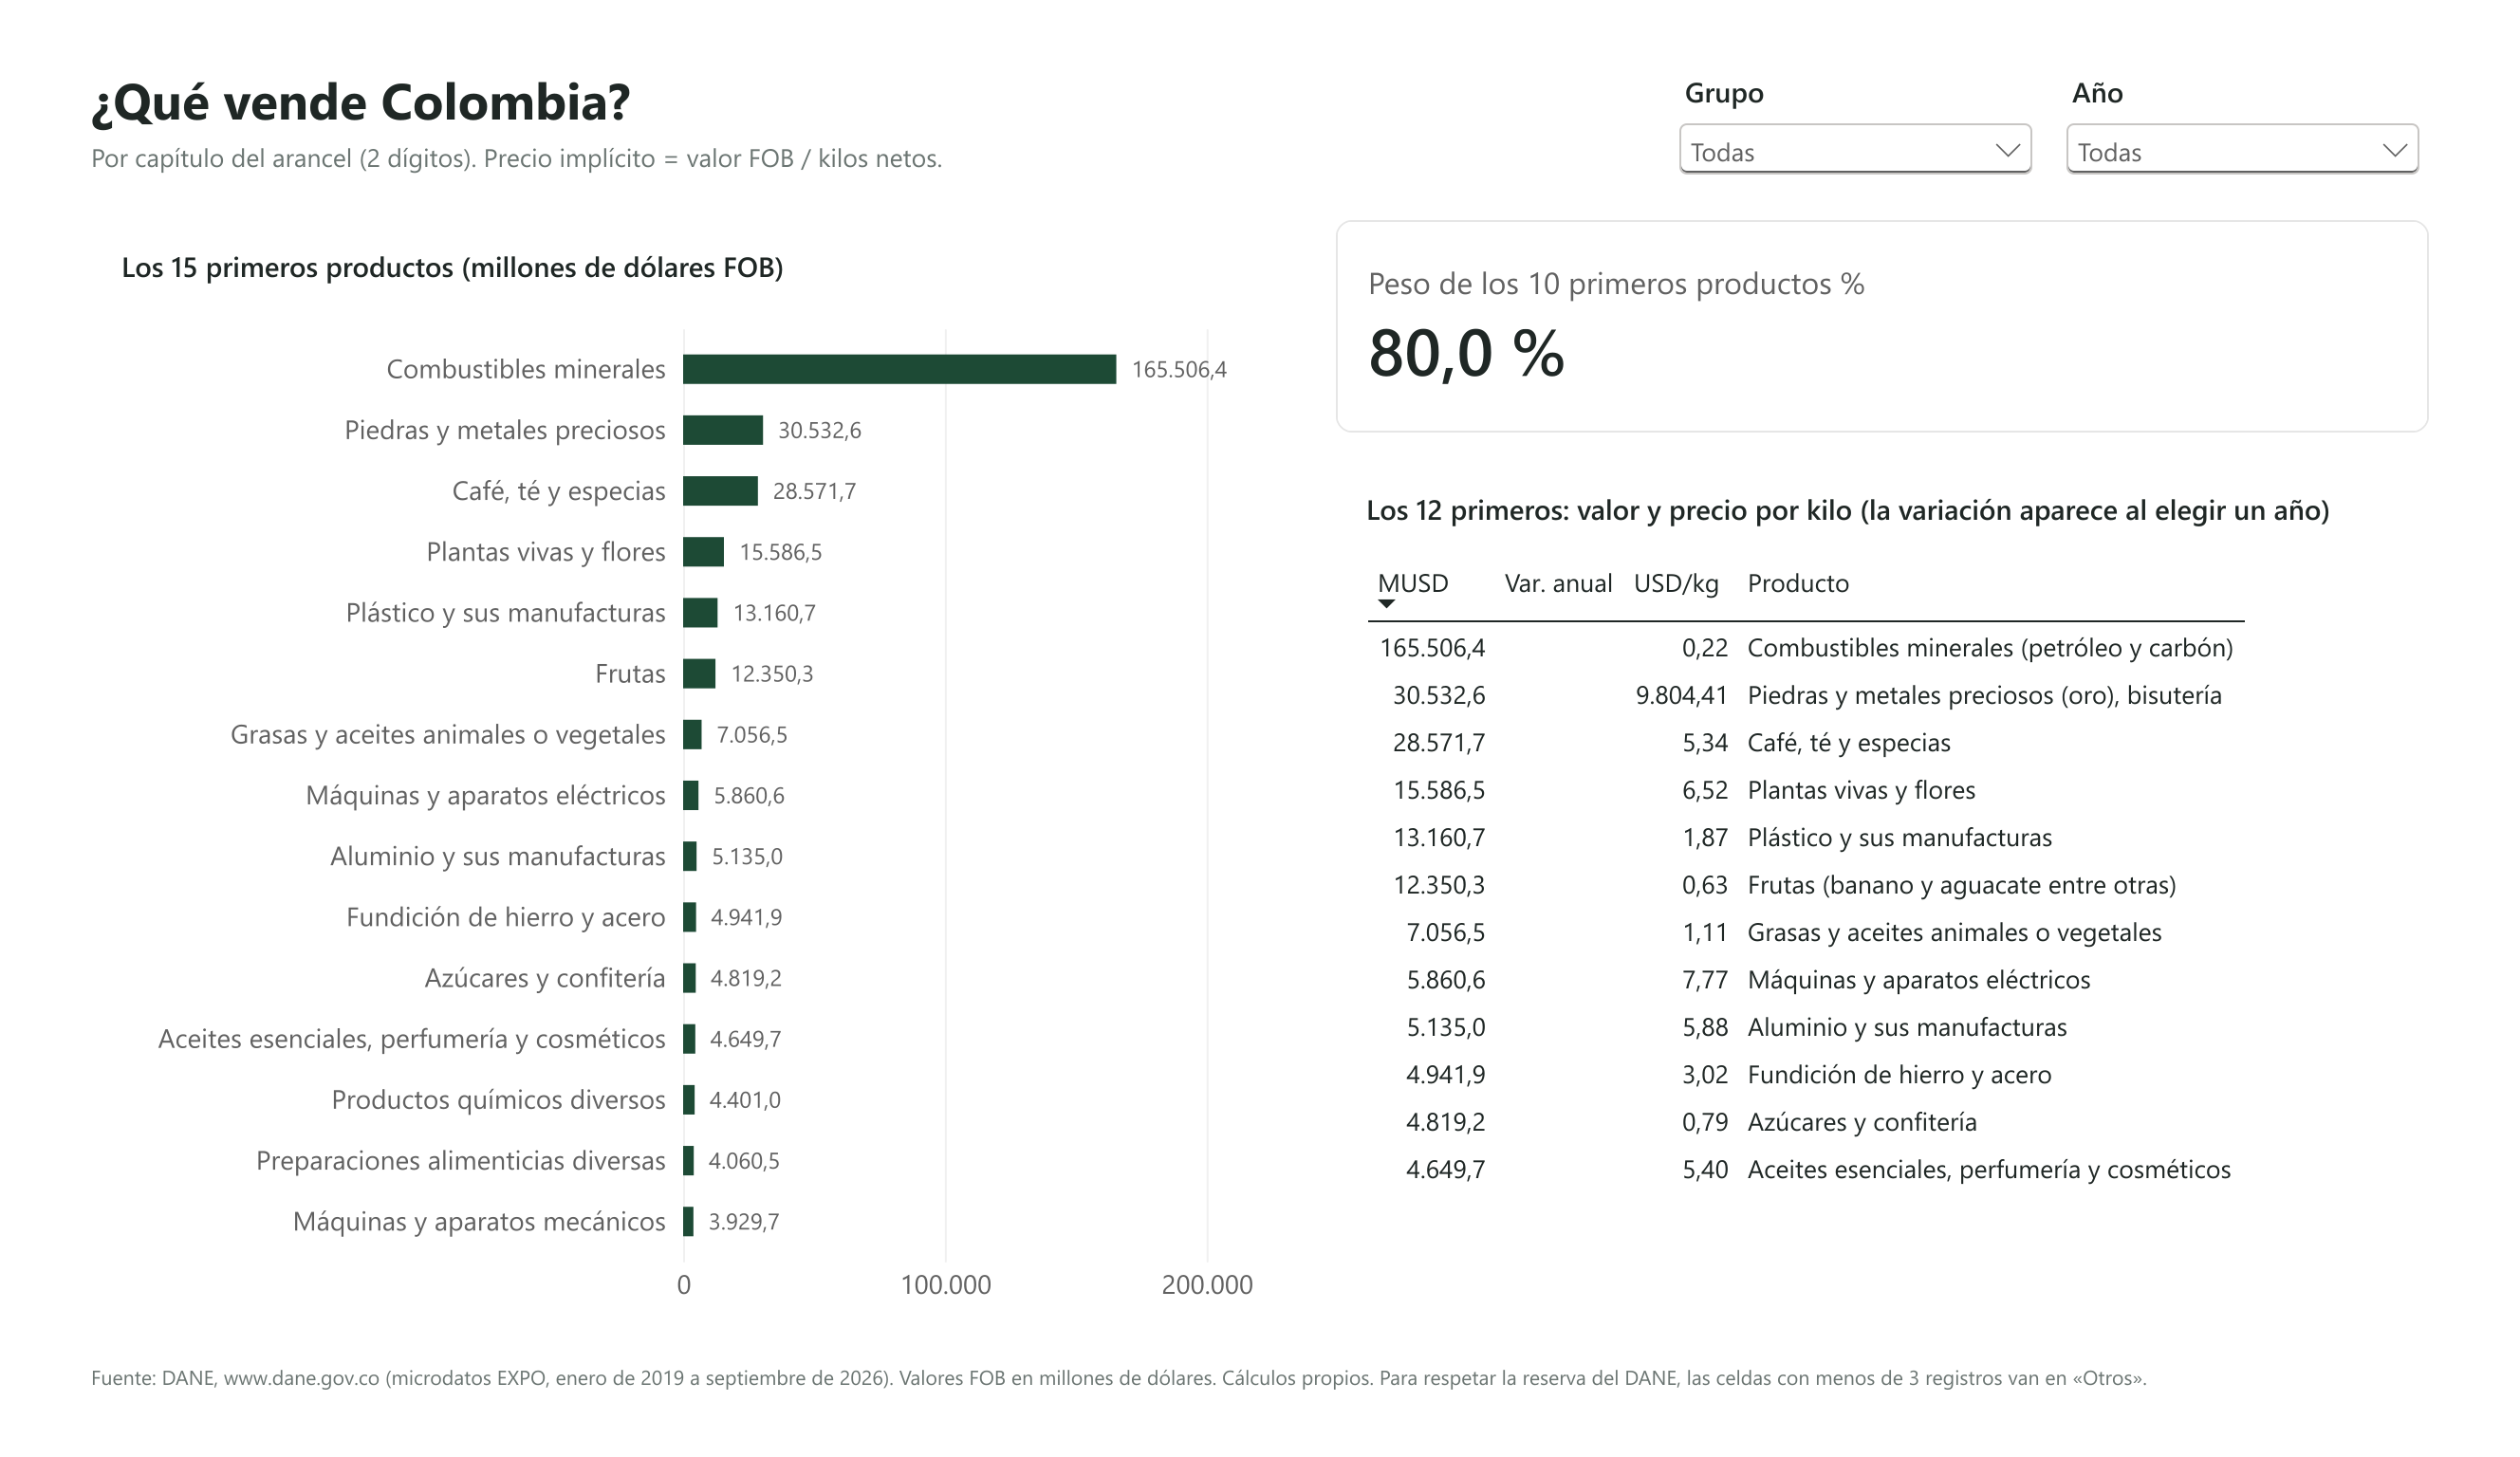

The page's visual inventory and layout, read from the dashboard file:
{"tool":"powerbi","page":{"name":"Productos","canvas":[1280,720],"ordinal":2},"visuals":[{"type":"textbox","box":[24,10,800,44],"z":0},{"type":"textbox","box":[24,50,800,30],"z":1},{"type":"slicer","fields":{"Values":["Calendario.Año"]},"box":[1060,14,196,64],"z":2},{"type":"slicer","fields":{"Values":["dim_capitulo.Grupo"]},"box":[856,14,196,64],"z":3},{"type":"cardVisual","fields":{"Data":["Medidas.Peso de los 10 primeros productos %"]},"box":[680,92,576,112],"z":4},{"type":"clusteredBarChart","title":"Los 15 primeros productos (millones de dólares FOB)","fields":{"Category":["dim_capitulo.Producto corto"],"Y":["Medidas.Exportaciones (MUSD) · 15 primeros productos"]},"box":[24,92,640,592],"z":5},{"type":"tableEx","title":"Los 12 primeros: valor y precio por kilo (la variación aparece al elegir un año)","fields":{"Values":["Medidas.Exportaciones (MUSD) · 12 primeros productos","Medidas.Variación anual % · 12 primeros productos","Medidas.USD por kilo · 12 primeros productos","dim_capitulo.Producto"]},"box":[680,220,576,464],"z":6},{"type":"textbox","box":[24,692,1232,24],"z":90}]}

Visuals, with their boxes in screenshot pixels (x1, y1, x2, y2), scaled from the page's 1280x720 canvas onto the 2520x1457 screenshot:
textbox: bbox=[47, 20, 1622, 109]
textbox: bbox=[47, 101, 1622, 162]
slicer - Calendario.Año: bbox=[2087, 28, 2473, 157]
slicer - dim_capitulo.Grupo: bbox=[1685, 28, 2071, 157]
cardVisual - Medidas.Peso de los 10 primeros productos %: bbox=[1339, 186, 2473, 413]
"Los 15 primeros productos (millones de dólares FOB)" clusteredBarChart: bbox=[47, 186, 1307, 1384]
"Los 12 primeros: valor y precio por kilo (la variación aparece al elegir un año)" tableEx: bbox=[1339, 445, 2473, 1384]
textbox: bbox=[47, 1400, 2473, 1448]
